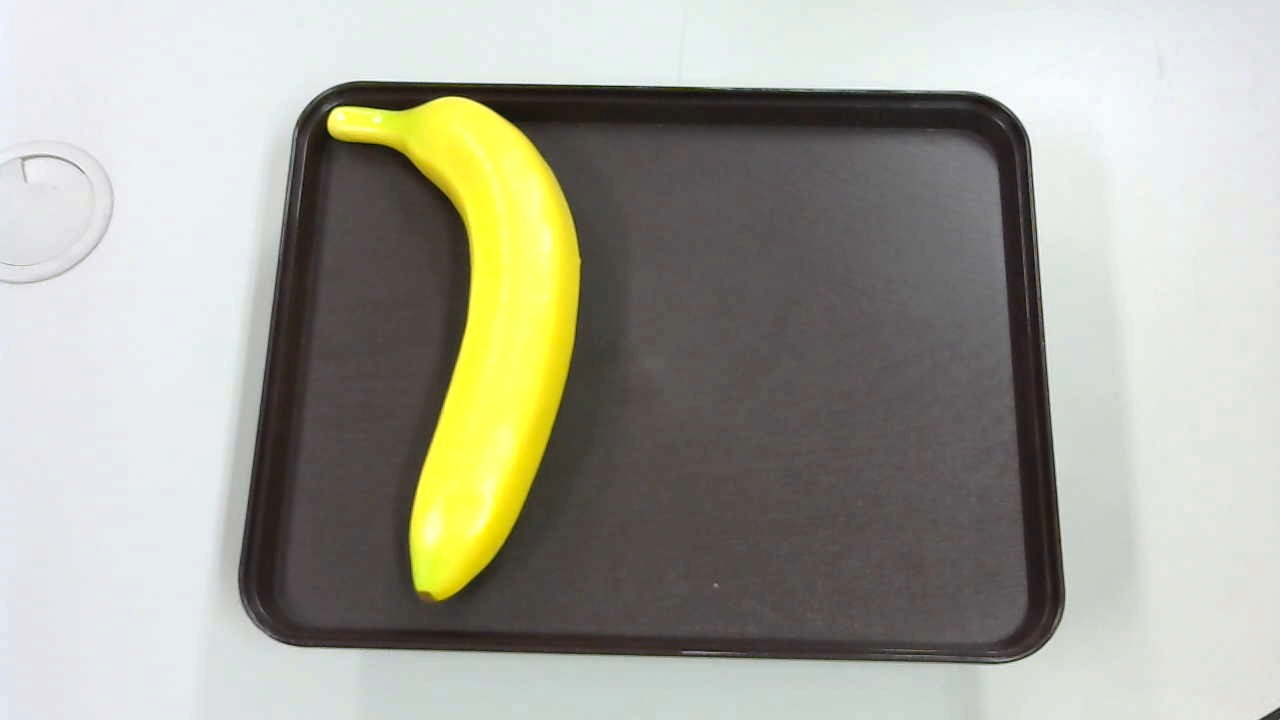banana: (327, 95, 600, 610)
